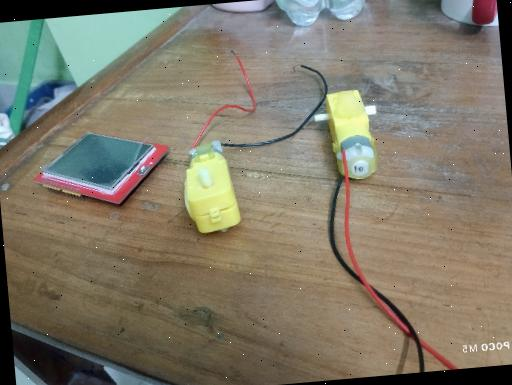Display: (28, 122, 174, 214)
Motor: (310, 86, 382, 184), (178, 136, 244, 235)
